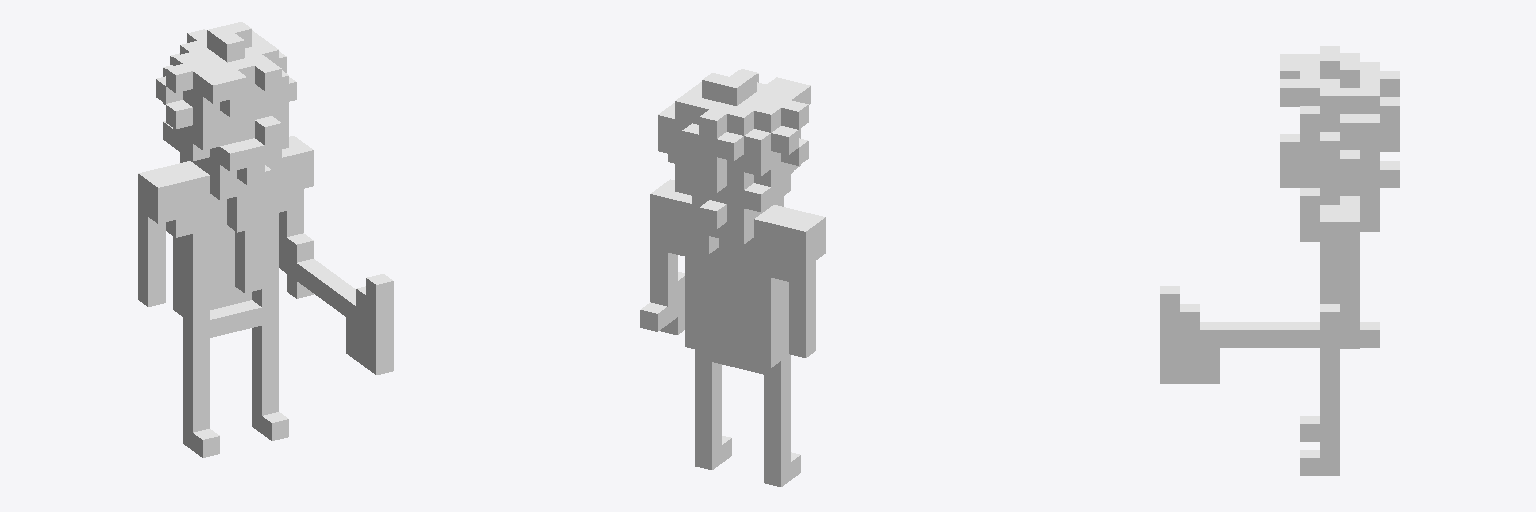
File: SwingingAxeManChar-0.obj
3 views of the same model, side by side, from view 1: azimuth 30°, elevation 25°; view 2: azimuth 150°, elevation 25°; view 3: azimuth 270°, elevation 25° (orthographic).
Visible parts, largest first — view 1: SwingingAxeManChar-0; view 2: SwingingAxeManChar-0; view 3: SwingingAxeManChar-0.
Boxes of the visible parts, <box> form: SwingingAxeManChar-0: <box>138,22,393,457</box>; SwingingAxeManChar-0: <box>640,69,825,486</box>; SwingingAxeManChar-0: <box>1160,46,1399,475</box>.
Size of the model in its own units: 9 by 22 by 12.